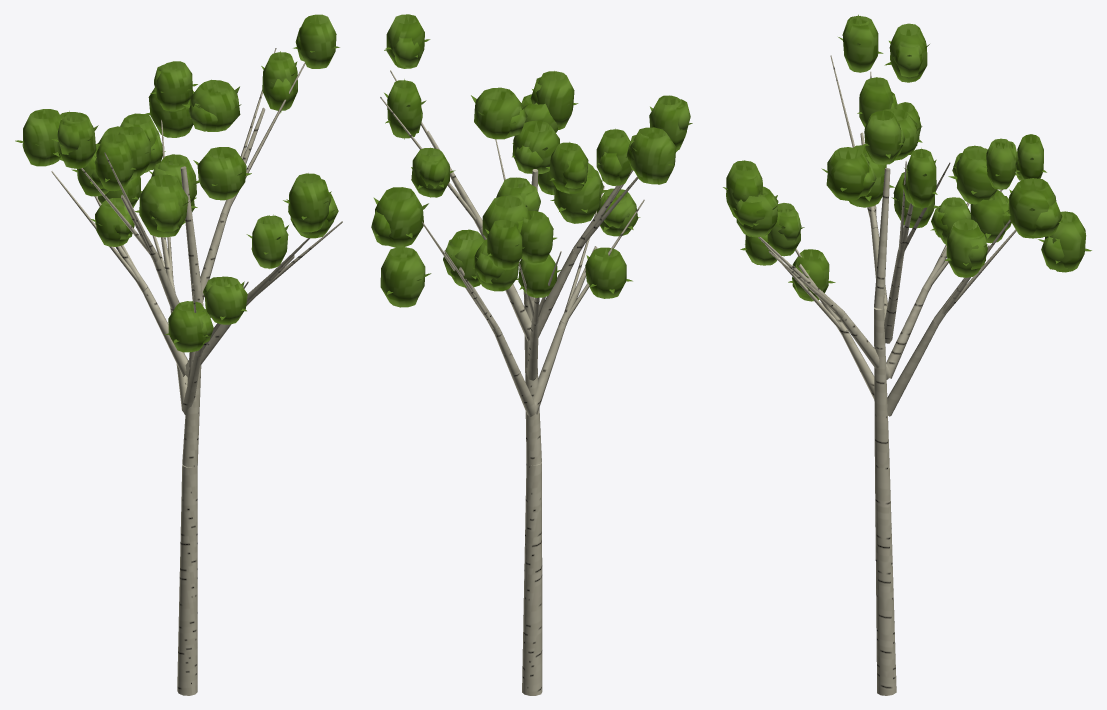
File: birch03-lod0.glb
3 renders of one model, left to right at view 1: azimuth 30°, elevation 25°; view 2: azimuth 150°, elevation 25°; view 3: azimuth 270°, elevation 25°, orthographic.
Visible parts, largest first — view 1: TZ_birch_Batch_01_LOD0, TZ_birch_Batch_00_LOD0, TZ_birch_Batch_02_LOD0; view 2: TZ_birch_Batch_01_LOD0, TZ_birch_Batch_00_LOD0, TZ_birch_Batch_02_LOD0; view 3: TZ_birch_Batch_01_LOD0, TZ_birch_Batch_00_LOD0, TZ_birch_Batch_02_LOD0.
Part boxes in pixels (<box>): TZ_birch_Batch_01_LOD0: <box>22,14,338,352</box>; TZ_birch_Batch_00_LOD0: <box>51,48,342,695</box>; TZ_birch_Batch_02_LOD0: <box>15,46,339,343</box>; TZ_birch_Batch_01_LOD0: <box>371,14,690,307</box>; TZ_birch_Batch_00_LOD0: <box>380,70,644,695</box>; TZ_birch_Batch_02_LOD0: <box>373,39,692,294</box>; TZ_birch_Batch_01_LOD0: <box>726,14,1086,301</box>; TZ_birch_Batch_00_LOD0: <box>758,55,1016,695</box>; TZ_birch_Batch_02_LOD0: <box>723,37,1091,283</box>.
Size of the model in its own units: 3.56 by 7.2 by 3.76.
3 materials, 3 textured.
